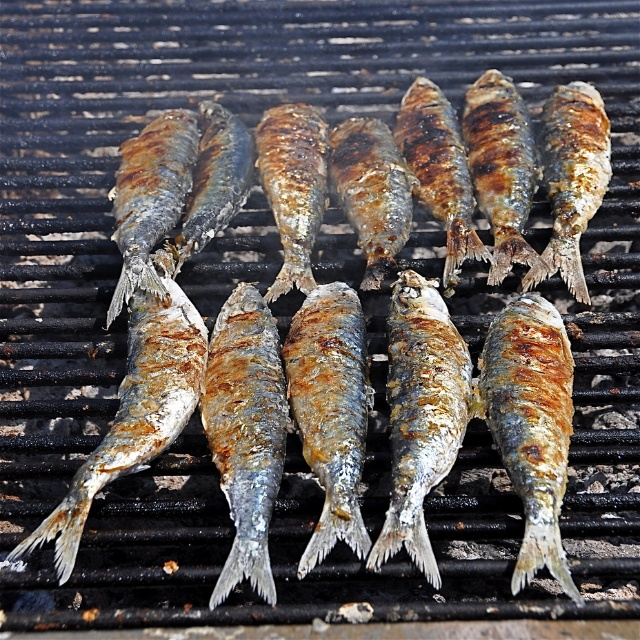Fish: (5, 69, 613, 611)
